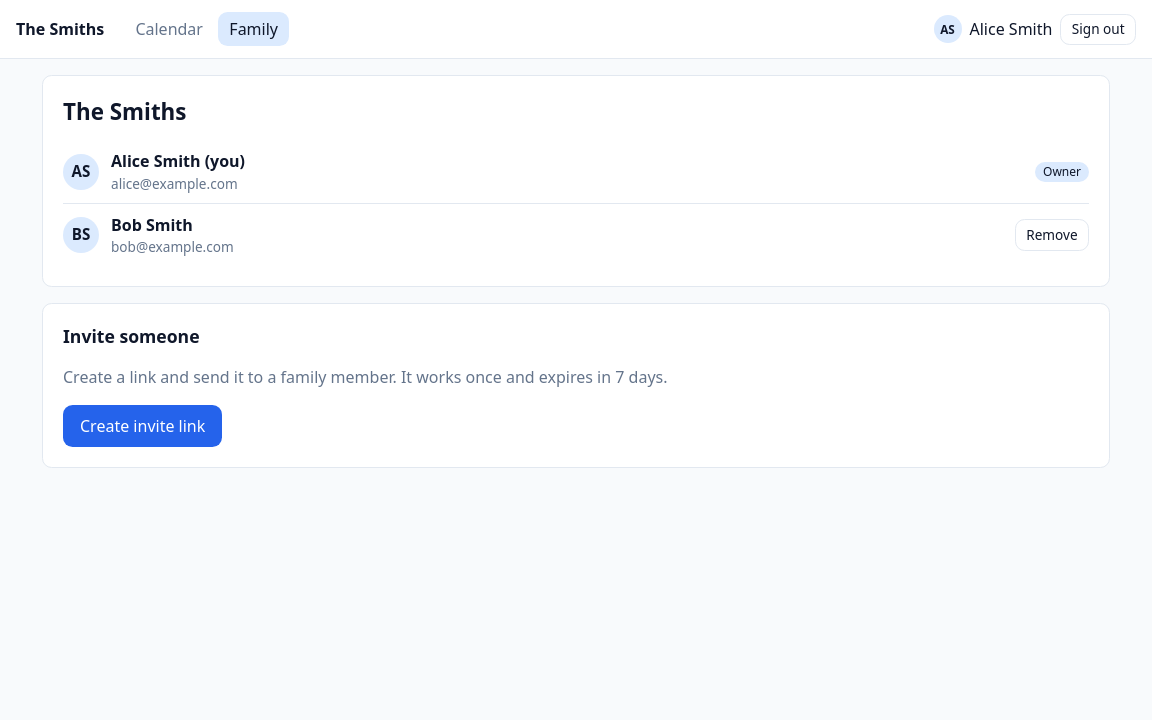
Test: family page › lists members and creates an invite link
The width and height of the screenshot is (1152, 720).
Expected: the text "Bob Smith" is shown, [111, 214, 193, 236]
Expected: the text "Owner" is shown, [1035, 162, 1089, 182]
What coordinates should you click on to do the following:
click the button "Create invite link"
I would click on:
 (143, 426)
Its box is [63, 405, 222, 448].
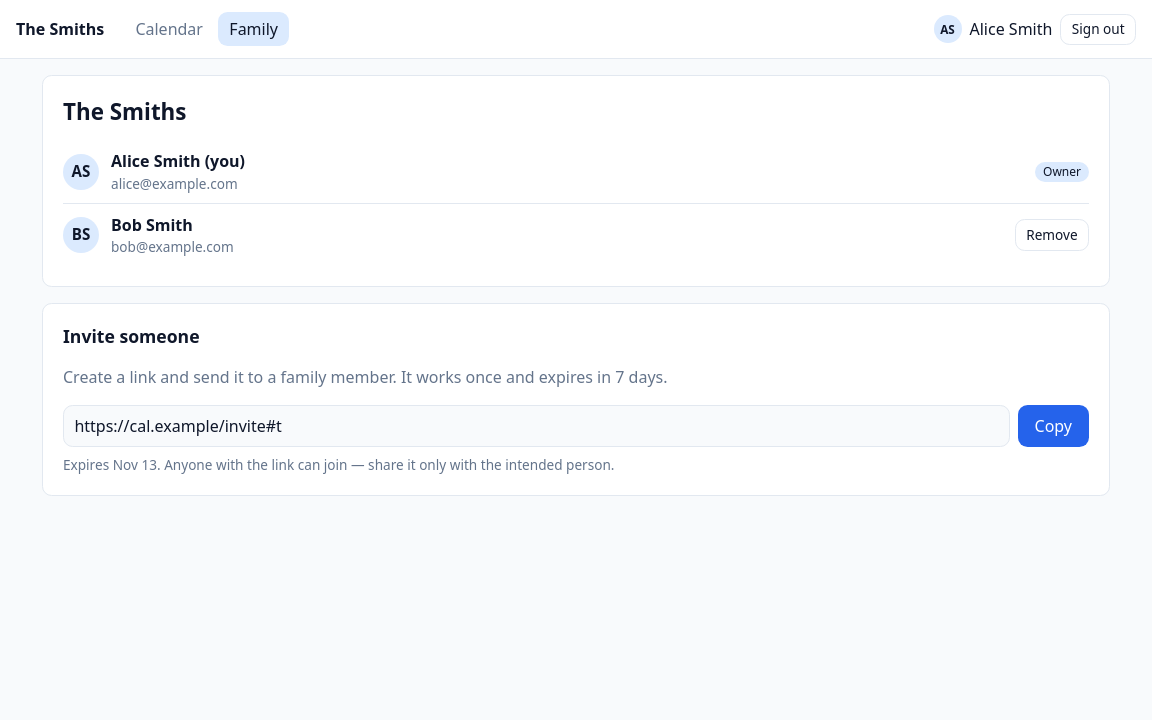
Expected: the field named "invite link" holds "https://cal.example/invite#t", [63, 405, 1010, 448]
